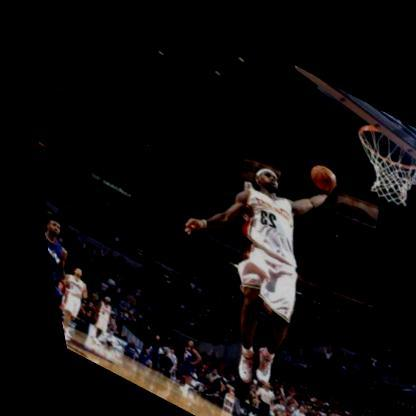basketball: (298, 149, 337, 186)
rim: (330, 102, 416, 206)
